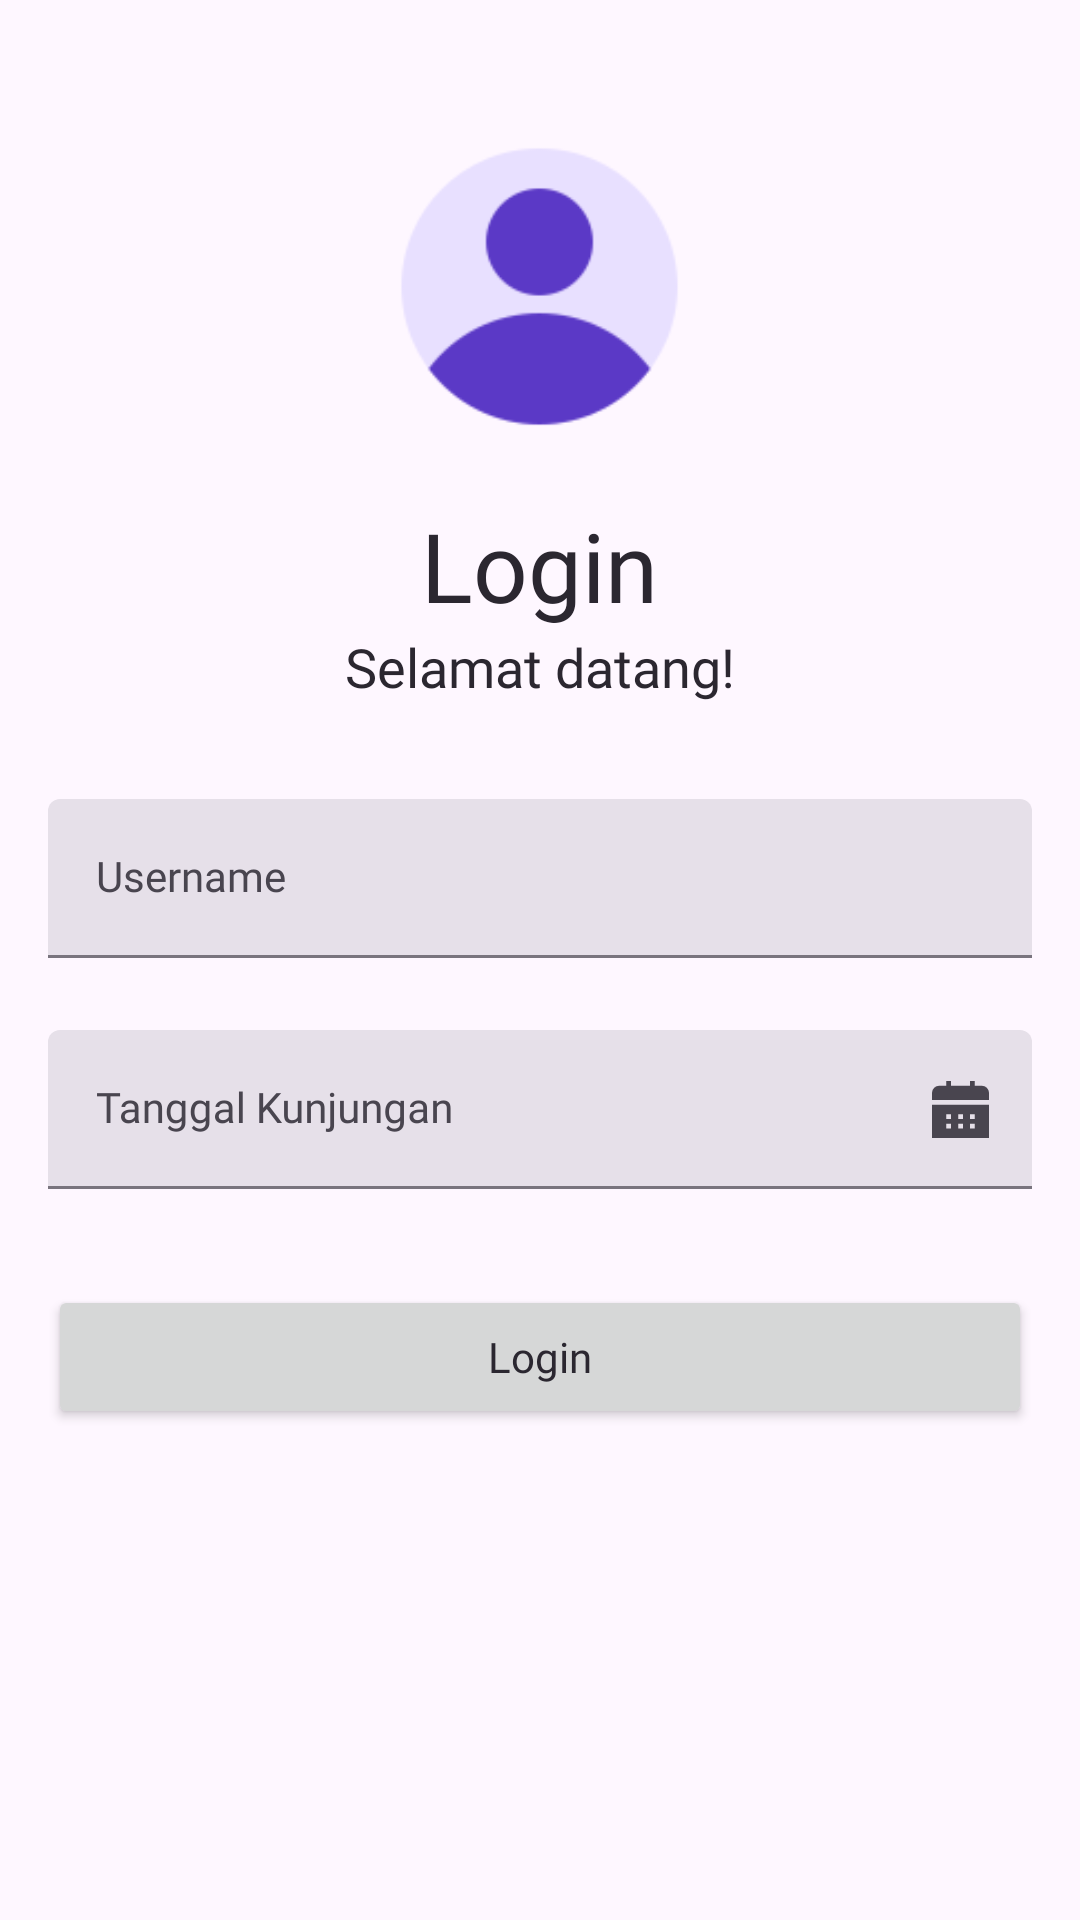

Locate icon controls on the screen. Image size 1080x1920, boxes as (x1, y1, x2, y2).
profile: (428, 187, 651, 425)
